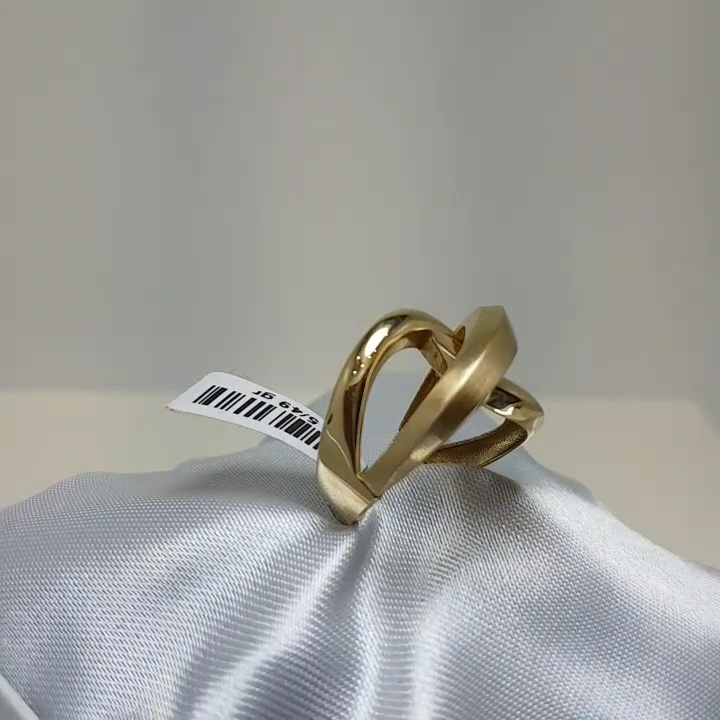Ring 3: (298, 269, 553, 561)
